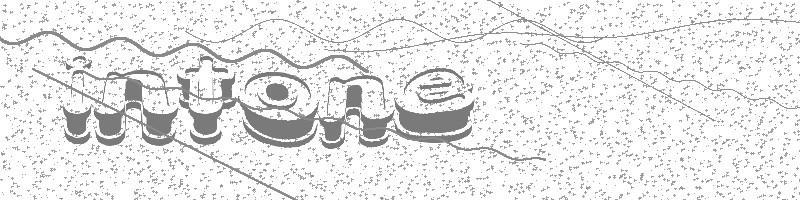e: (394, 66, 475, 144)
i: (61, 55, 93, 145)
n: (94, 67, 178, 147), (319, 75, 395, 148)
o: (239, 70, 320, 149)
t: (176, 55, 237, 145)
